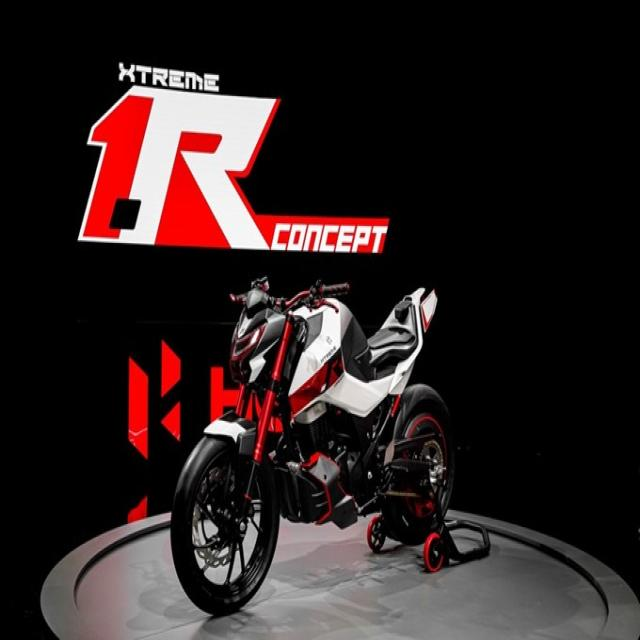two_wheeler: (153, 268, 490, 578)
